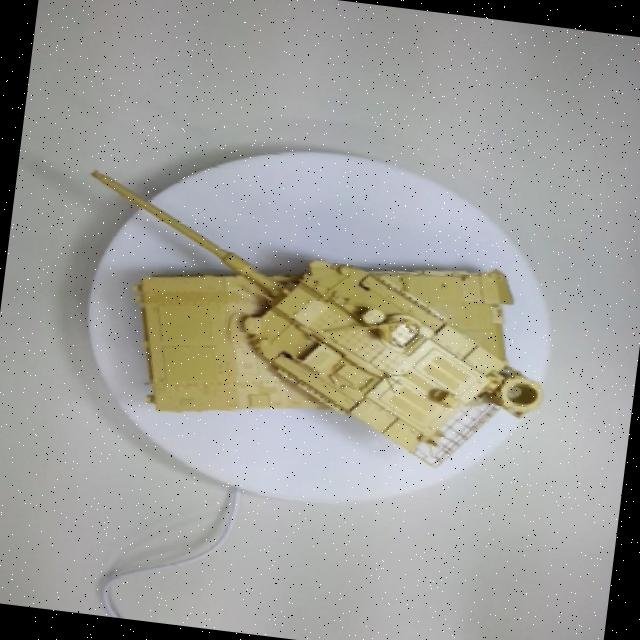korea tank: (11, 120, 585, 526)
